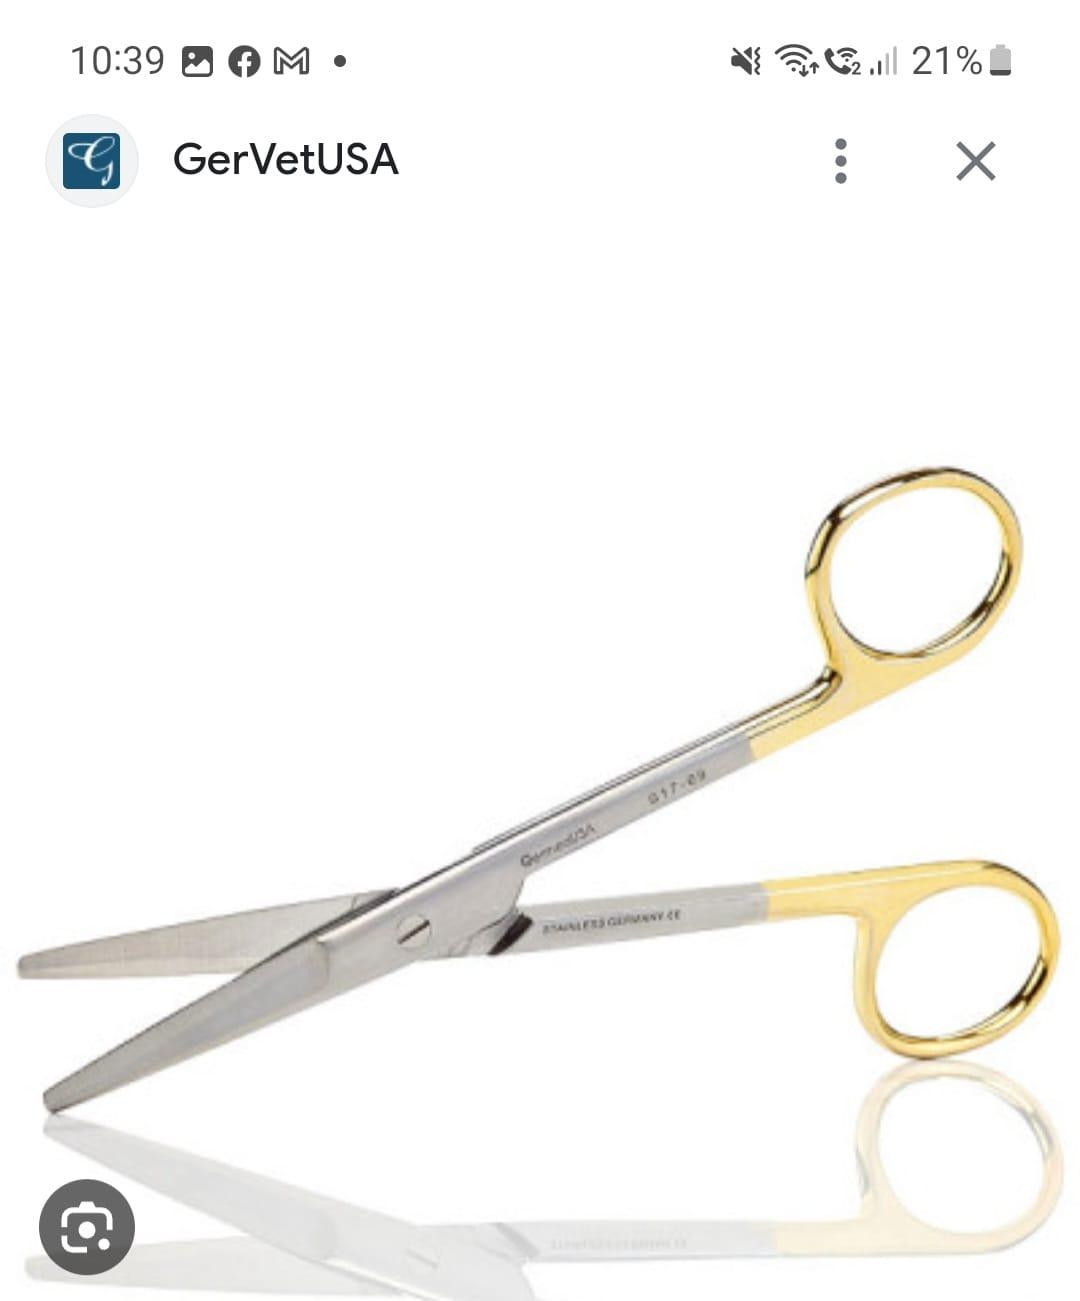Straight Mayo: (10, 444, 1070, 1124)
